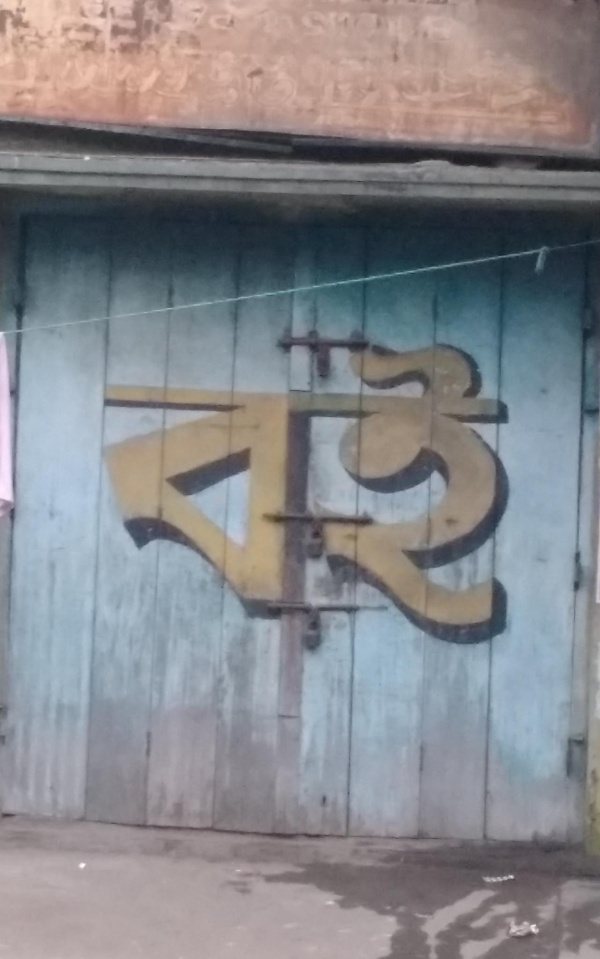text: (97, 328, 112, 661), (113, 328, 128, 661), (129, 328, 144, 661), (145, 328, 160, 661), (161, 328, 176, 661), (177, 328, 192, 661), (193, 328, 208, 661), (209, 328, 224, 661), (225, 328, 240, 661), (241, 328, 256, 661), (257, 328, 272, 661), (273, 328, 288, 661), (289, 328, 304, 661), (305, 328, 320, 661), (321, 328, 336, 661), (337, 328, 352, 661), (353, 328, 368, 661), (369, 328, 384, 661), (385, 328, 400, 661), (401, 328, 416, 661), (417, 328, 432, 661), (433, 328, 448, 661), (449, 328, 464, 661), (465, 328, 480, 661), (481, 328, 496, 661), (497, 328, 512, 661), (91, 328, 96, 661), (513, 328, 514, 661)
